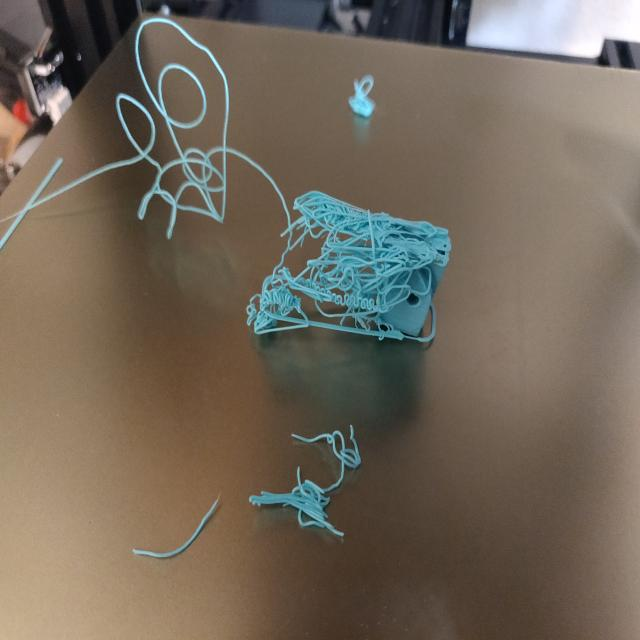spaghetti: (11, 19, 246, 266), (255, 160, 465, 384), (245, 422, 388, 554), (130, 495, 230, 582), (338, 59, 386, 129)
